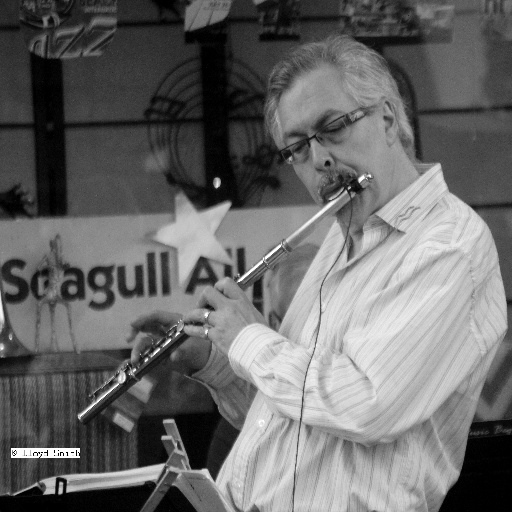hand: (180, 274, 268, 363), (128, 307, 211, 376)
